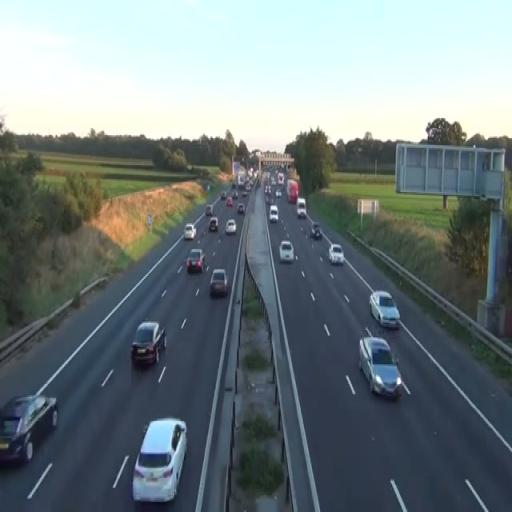Car: (132, 417, 188, 503), (0, 392, 58, 466), (358, 336, 402, 400), (131, 321, 167, 366), (370, 291, 400, 329), (210, 269, 228, 297), (186, 248, 205, 274), (328, 243, 344, 266), (280, 240, 294, 263), (184, 224, 196, 240), (226, 219, 236, 235), (270, 205, 278, 223), (209, 217, 218, 232)
